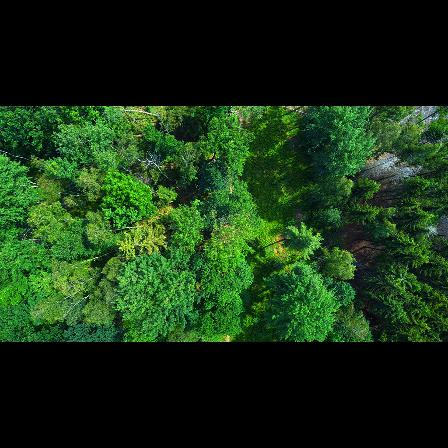Dead: (354, 157, 396, 175), (377, 168, 421, 183), (414, 108, 446, 126), (426, 222, 441, 238)
